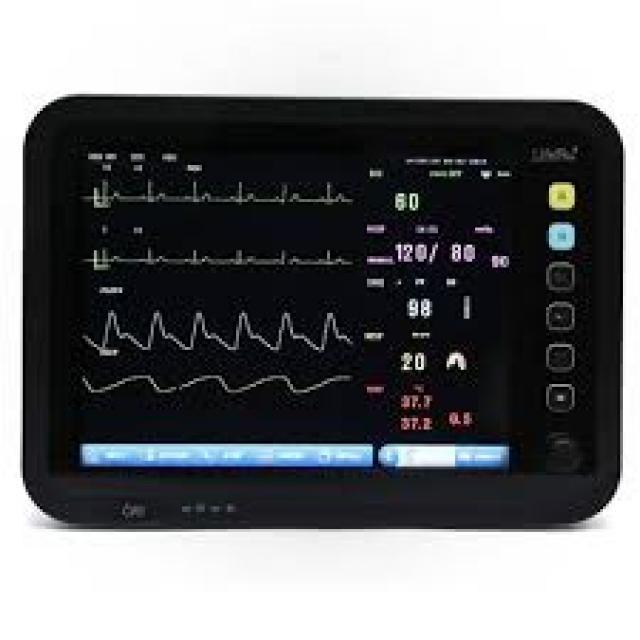cardiac_monitor: (53, 93, 615, 505)
